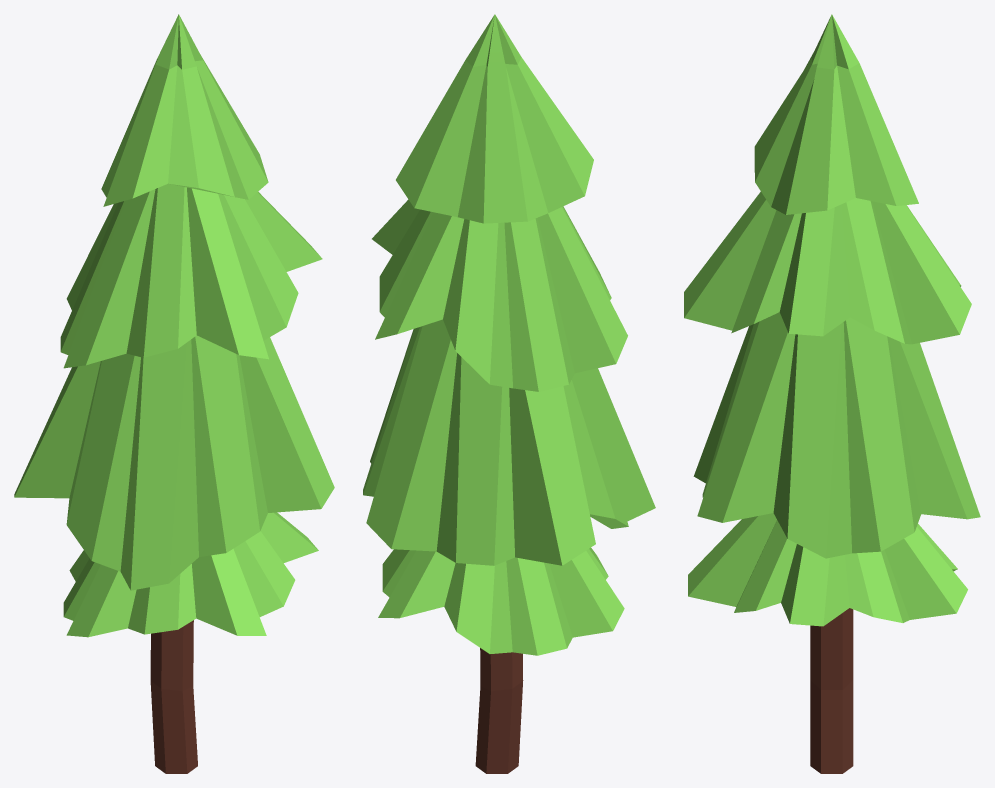
File: SM_PineTree_C.fbx
The picture shows the model from 3 angles, left to right: view 1: azimuth 30°, elevation 25°; view 2: azimuth 150°, elevation 25°; view 3: azimuth 270°, elevation 25°; orthographic projection.
Parts seen in each view (by area): view 1: SM_PineTree_C; view 2: SM_PineTree_C; view 3: SM_PineTree_C.
Boxes of the visible parts, <box> form: SM_PineTree_C: <box>14,14,334,773</box>; SM_PineTree_C: <box>363,14,655,773</box>; SM_PineTree_C: <box>684,14,980,773</box>.
Bounding box in the file's own units: 147 × 405 × 145.
